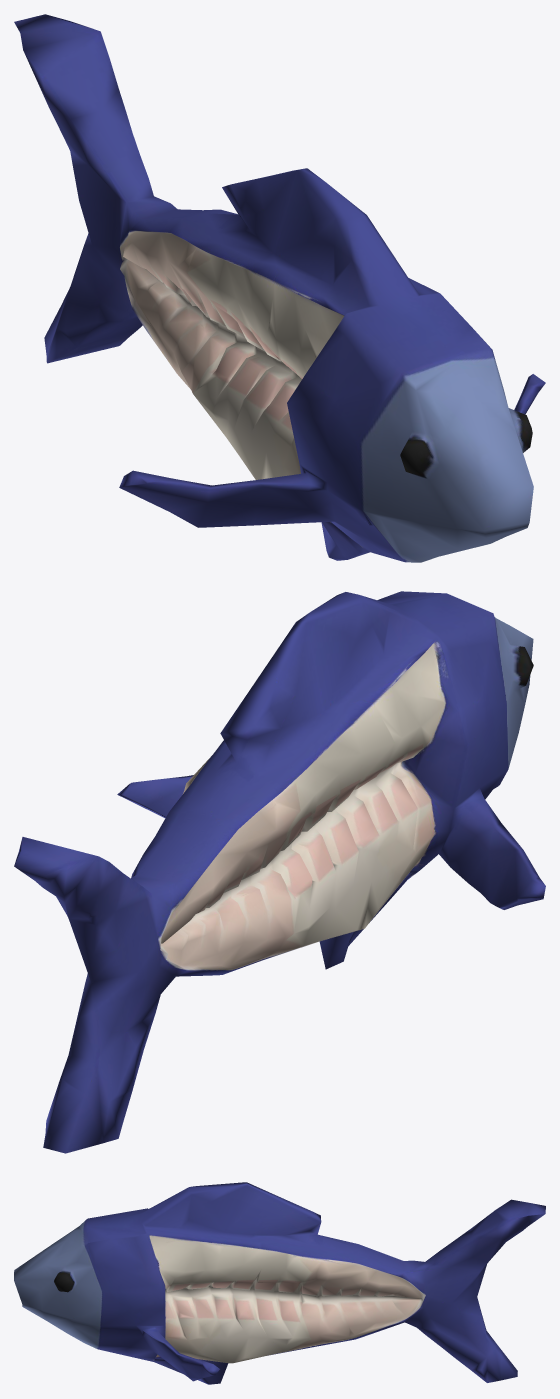
Rendered from tripo_convert_f081872f-a4aa-4cf3-909e-3cd352329221.fbx.
3 renders of one model, top to bottom at view 1: azimuth 30°, elevation 25°; view 2: azimuth 150°, elevation 25°; view 3: azimuth 270°, elevation 25°, orthographic. The views are drawn at different scales.
Parts seen in each view (by area): view 1: tripo_node_f081872f; view 2: tripo_node_f081872f; view 3: tripo_node_f081872f.
Boxes of the visible parts, x1,y1,x2,y2 form: tripo_node_f081872f: [14, 14, 545, 562]; tripo_node_f081872f: [14, 591, 545, 1153]; tripo_node_f081872f: [14, 1182, 545, 1384].
Bounding box in the file's own units: 0.5067 × 0.4174 × 1.
1 material, 1 textured.
